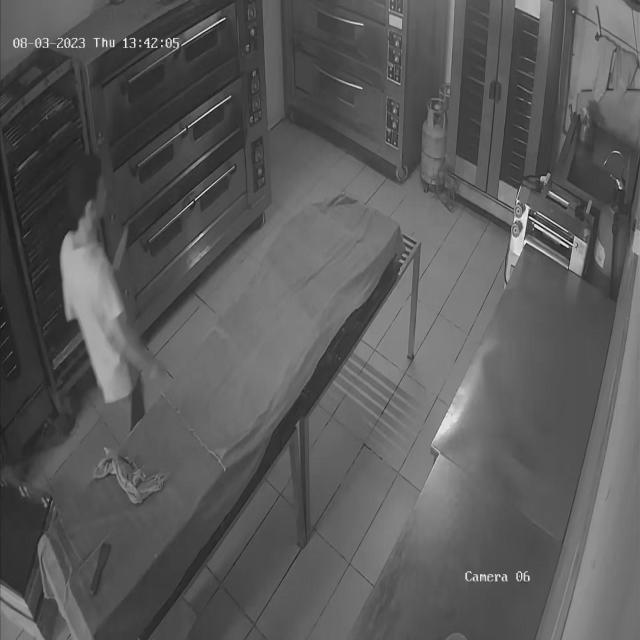Knife: (112, 217, 143, 280)
